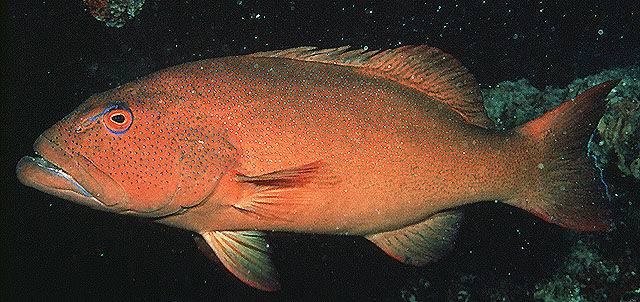fish: (16, 44, 622, 293)
